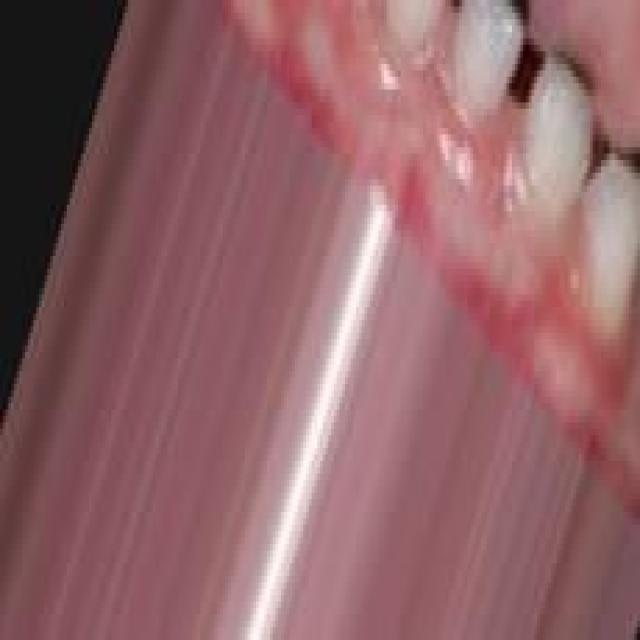caries: (549, 23, 606, 135)
